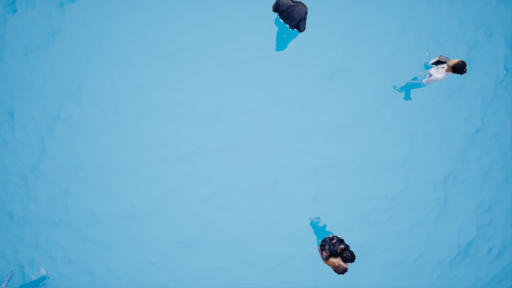person: (396, 51, 468, 109), (304, 221, 363, 277), (270, 1, 310, 57)
